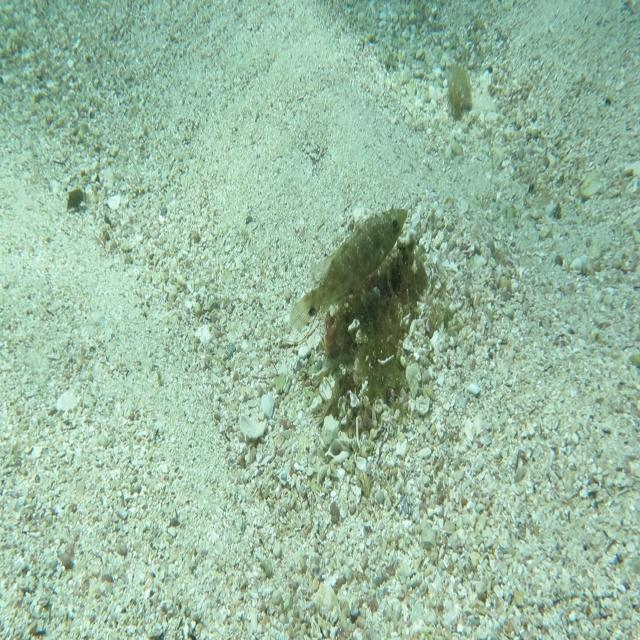FAN: (288, 206, 409, 334)
core_nest: (371, 268, 415, 310)
nest: (313, 234, 443, 442)
vegetation: (445, 64, 475, 131), (65, 185, 87, 217)
